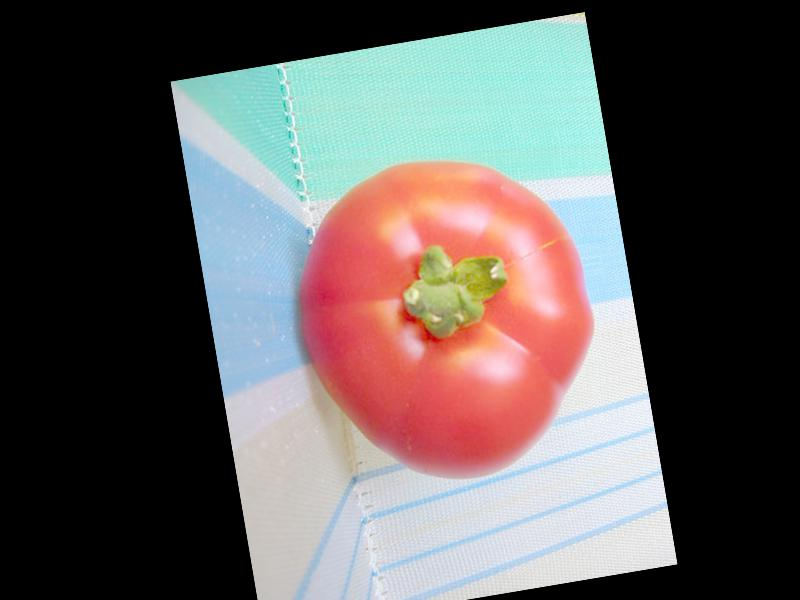Tomato: (276, 136, 616, 499)
